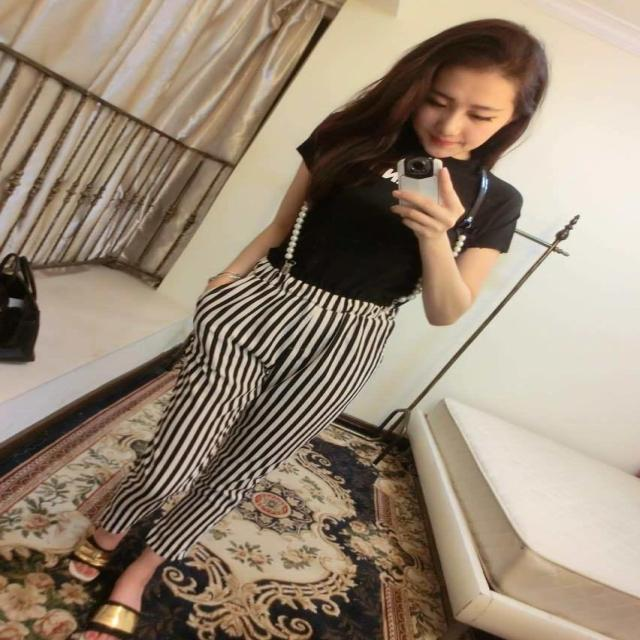short-sleeve-top: (293, 99, 525, 328)
trousers: (195, 290, 348, 583)
